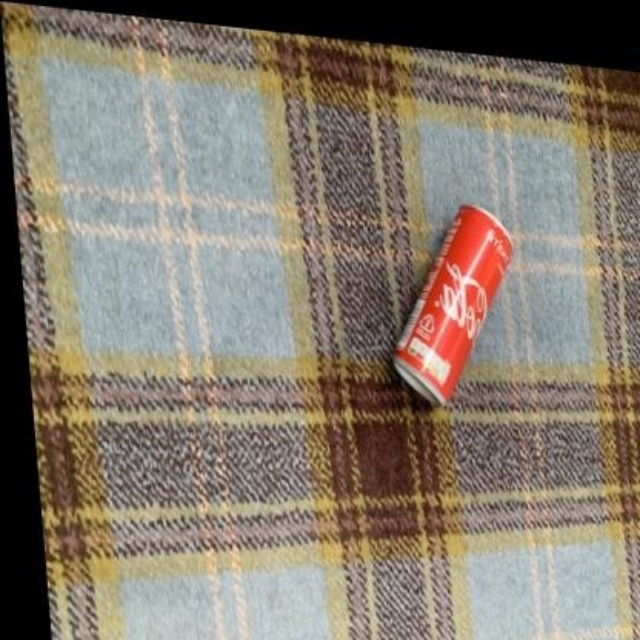trash: (394, 205, 511, 403)
